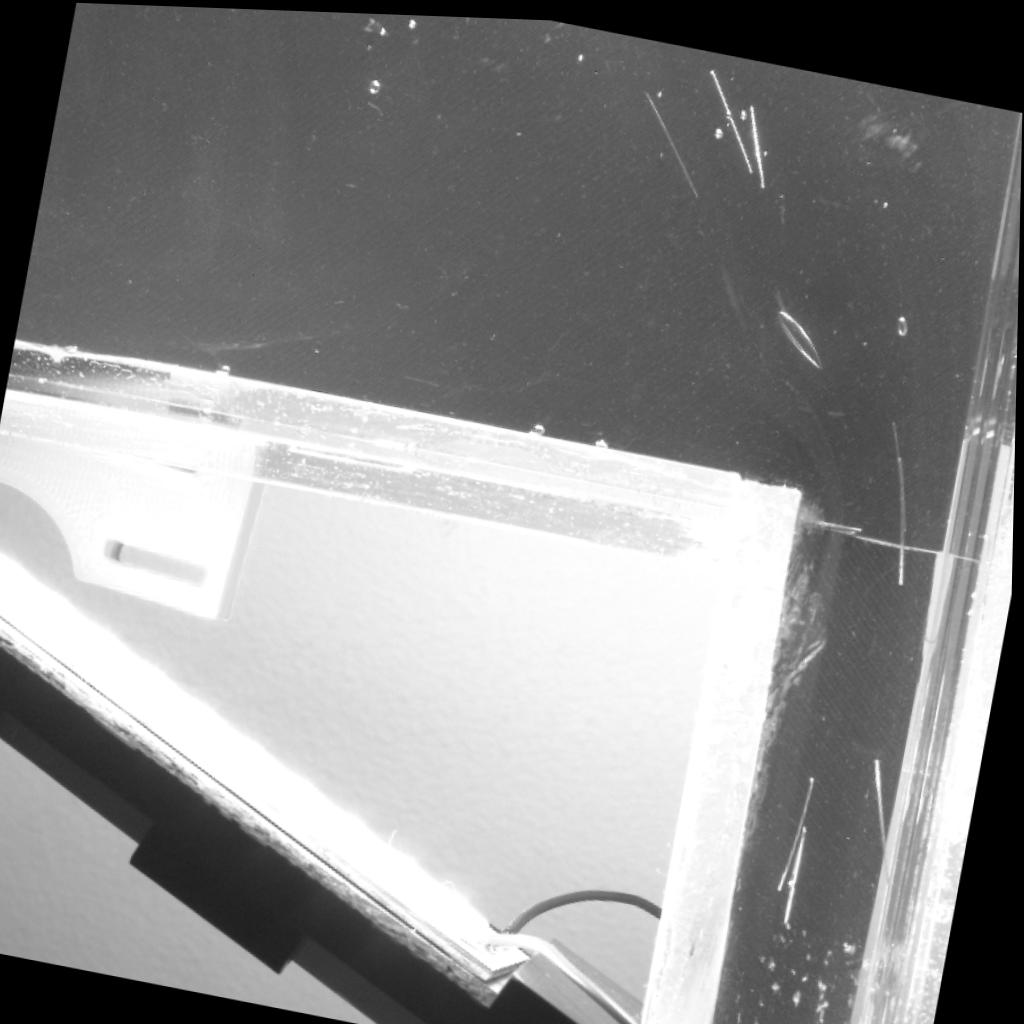Fiber: (642, 86, 702, 189), (705, 60, 755, 168), (775, 769, 820, 885), (874, 750, 898, 892), (893, 413, 908, 581), (786, 821, 811, 920), (745, 98, 768, 183)
